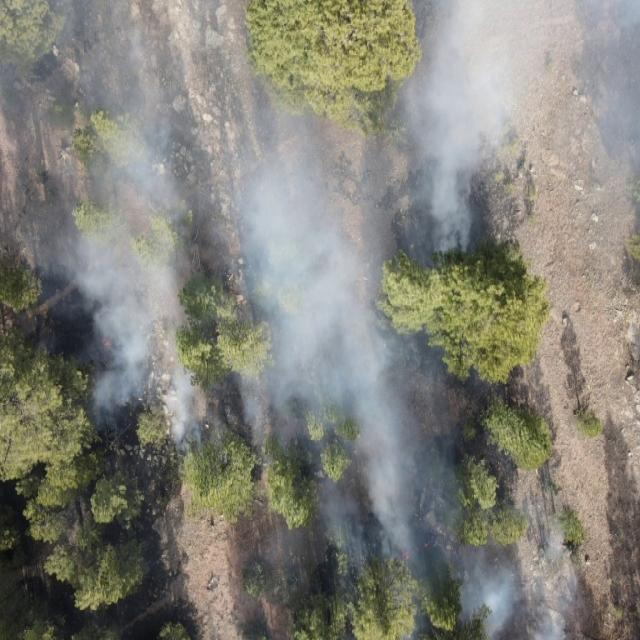fire: (100, 336, 113, 354), (401, 546, 414, 562), (422, 540, 428, 550)
smoke: (0, 0, 475, 461), (267, 507, 584, 640), (475, 0, 640, 248), (270, 462, 474, 506)
